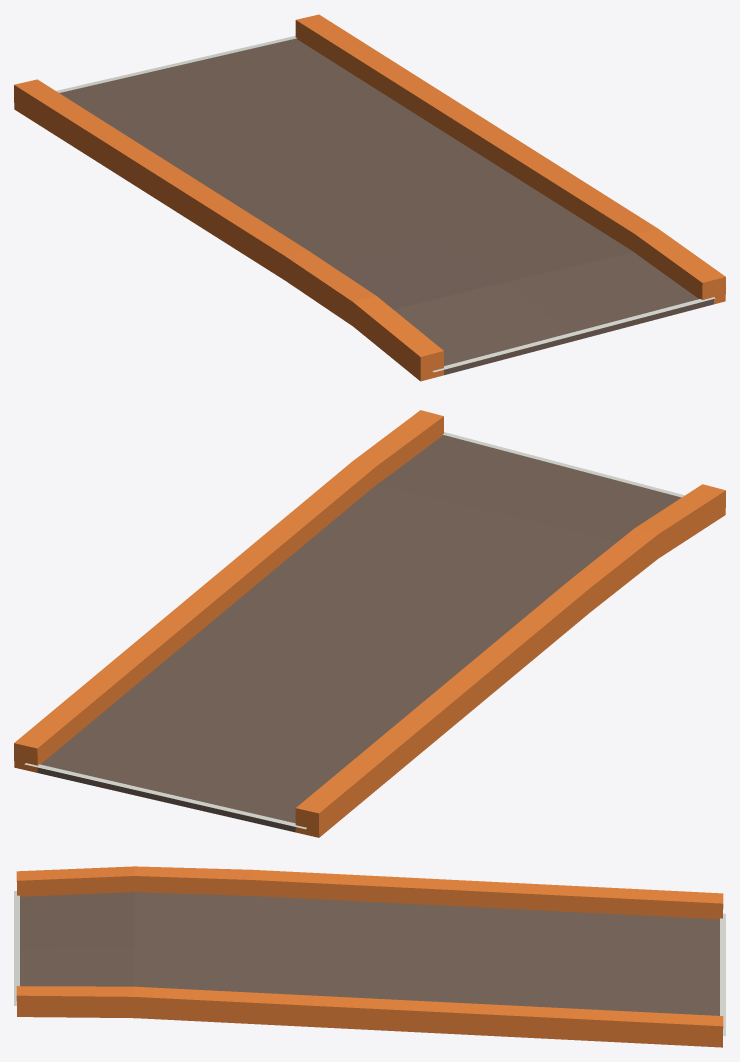
The model's file is SM_MP_Film_C_2_0.fbx.
3 views of the same model, one above another, from view 1: azimuth 30°, elevation 25°; view 2: azimuth 150°, elevation 25°; view 3: azimuth 270°, elevation 25° (orthographic). The views are drawn at different scales.
Visible parts, largest first — view 1: SM_MP_Film_C_2_0; view 2: SM_MP_Film_C_2_0; view 3: SM_MP_Film_C_2_0.
Part boxes in pixels (box(x1,y1,x2,y2)): SM_MP_Film_C_2_0: box(14, 14, 725, 381); SM_MP_Film_C_2_0: box(14, 410, 725, 837); SM_MP_Film_C_2_0: box(14, 866, 725, 1047).
Size of what is drawn, in the model's own units: 260 by 605 by 49.
